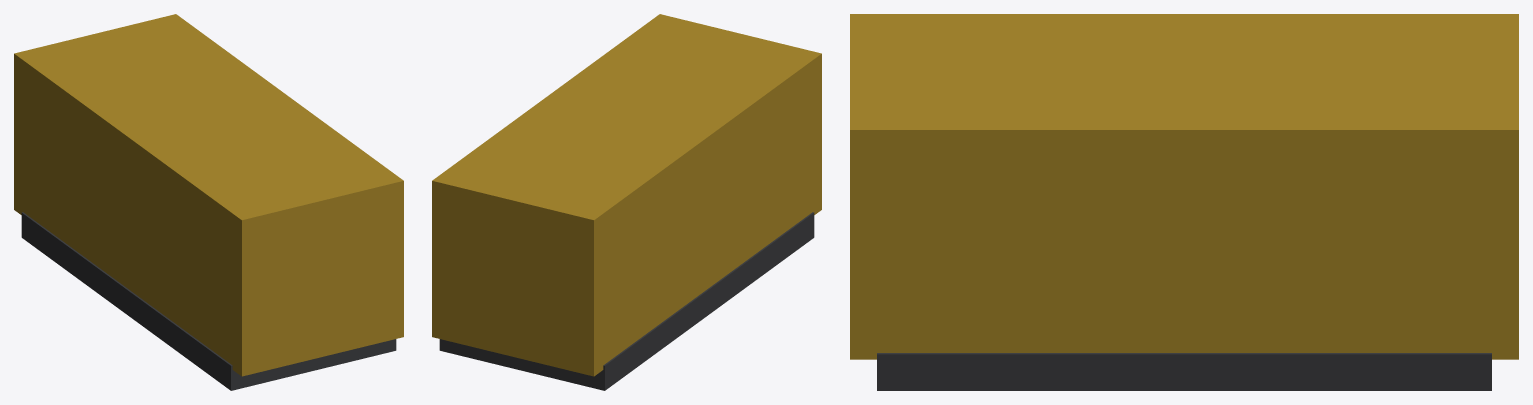
File: sdsc_gse_cherrypicker.glb
3 views of the same model, side by side, from view 1: azimuth 30°, elevation 25°; view 2: azimuth 150°, elevation 25°; view 3: azimuth 270°, elevation 25° (orthographic). The views are drawn at different scales.
Visible parts, largest first — view 1: sdsc_gse_cherrypicker; view 2: sdsc_gse_cherrypicker; view 3: sdsc_gse_cherrypicker.
Part boxes in pixels (left/top/right/bottom): sdsc_gse_cherrypicker: left=14, top=14, right=403, bottom=390; sdsc_gse_cherrypicker: left=432, top=14, right=821, bottom=390; sdsc_gse_cherrypicker: left=850, top=14, right=1518, bottom=390.
Size of the model in its own units: 2.35 by 2.4 by 5.6.
